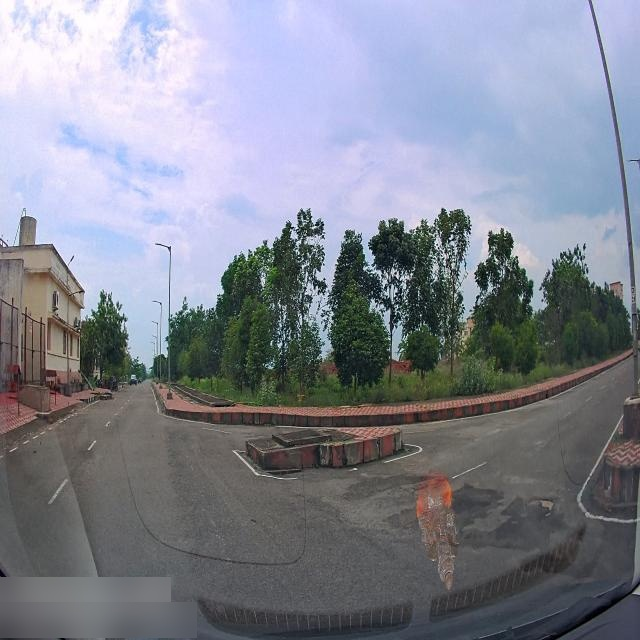pothole: (532, 492, 560, 516)
